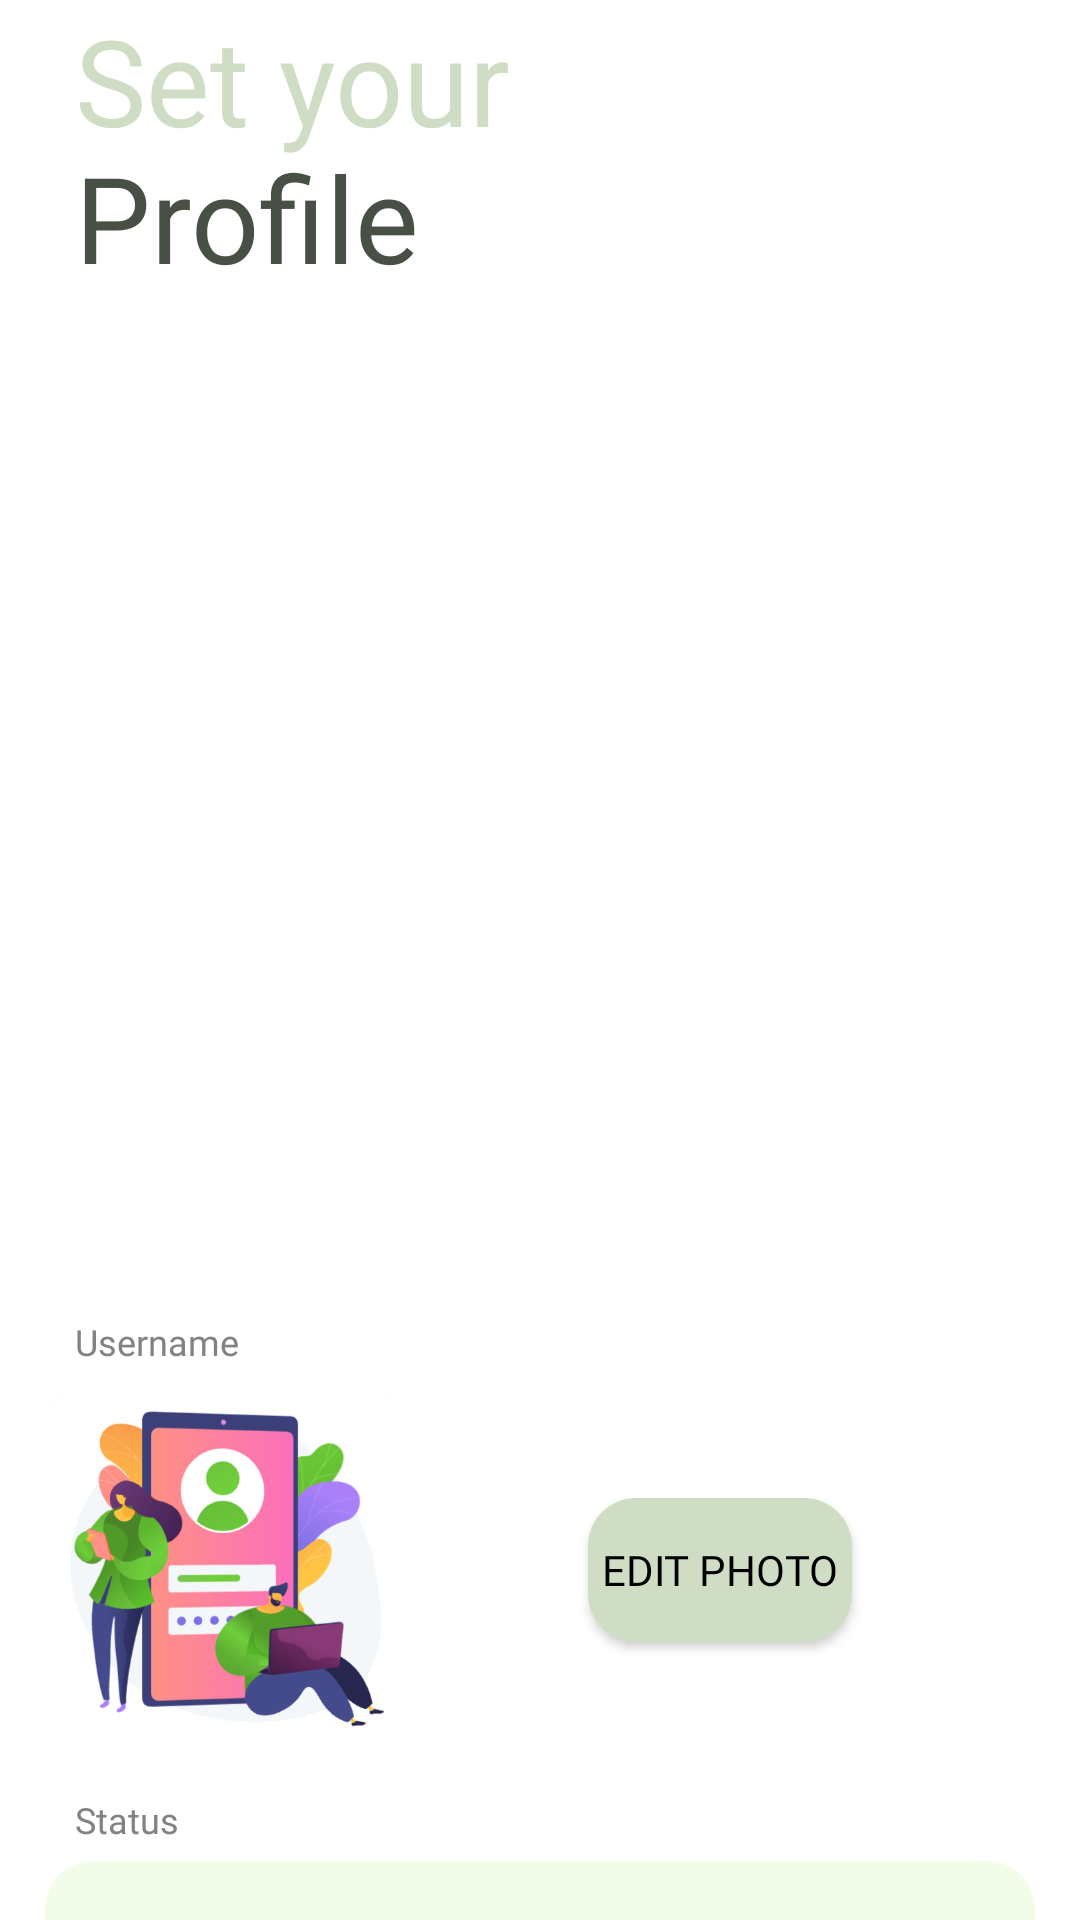

Named icons in this screenshot (1080w x 1920h) and their centers, (x=x, y=y):
login main: (x=229, y=1568)
